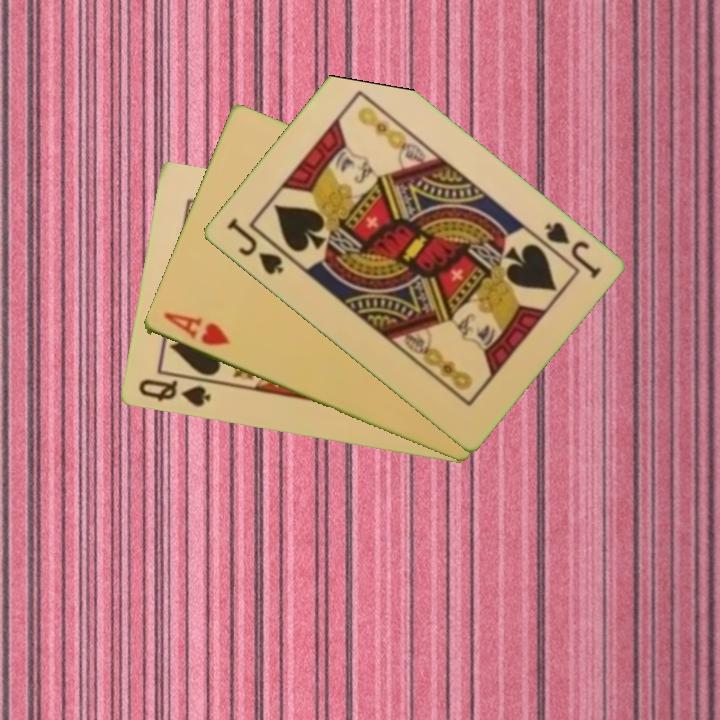Ah: (159, 309, 232, 349)
Js: (222, 214, 287, 278), (539, 218, 604, 282)
Qs: (134, 375, 213, 411)
